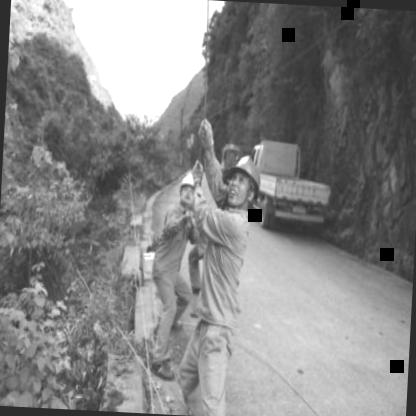helmet: (219, 146, 264, 212), (176, 171, 202, 209)
